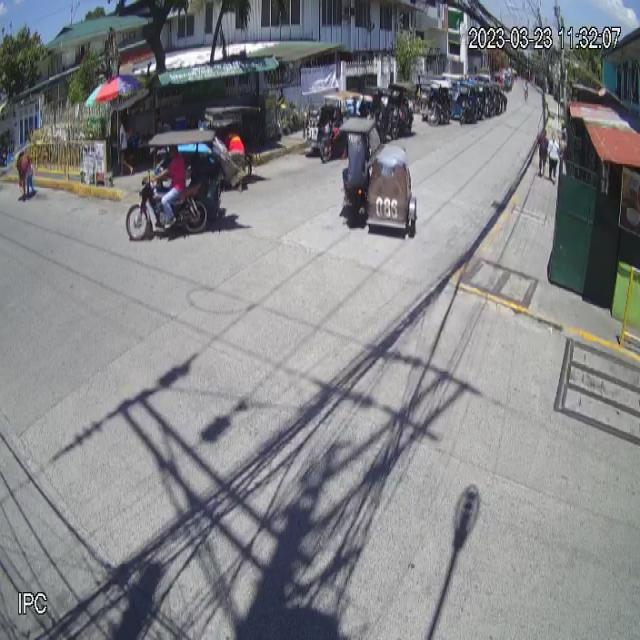Tricycle: (125, 128, 223, 240), (338, 117, 418, 240)
